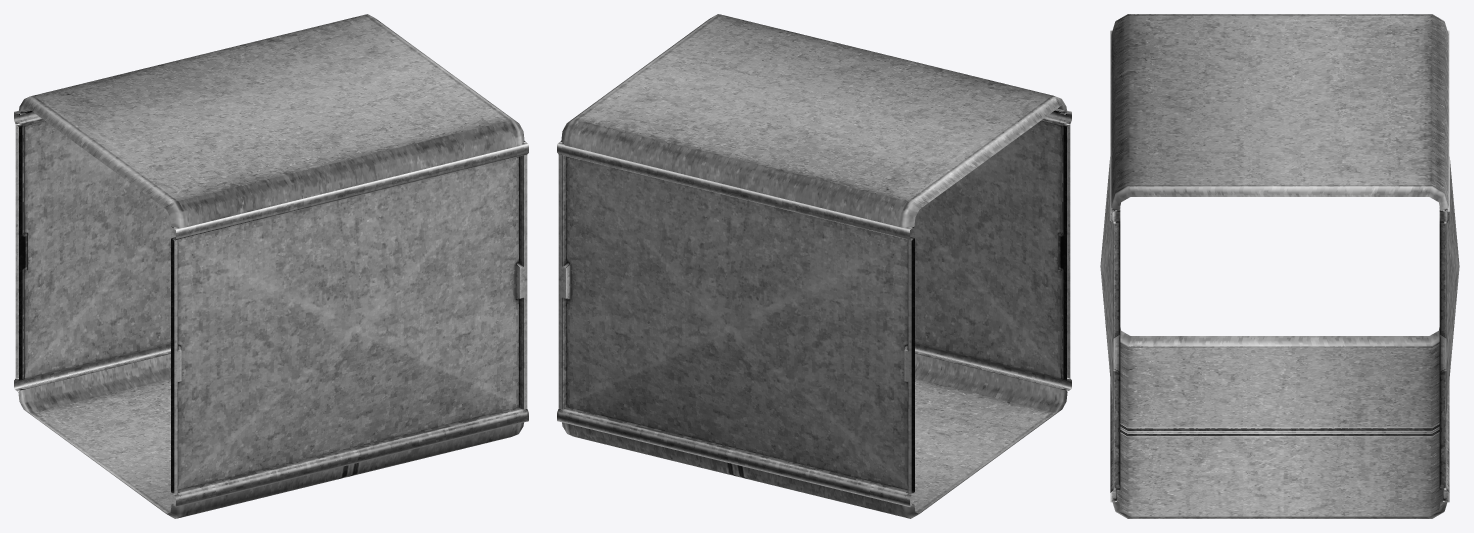
File: vent_shaft_exterior_straight.dae
3 views of the same model, side by side, from view 1: azimuth 30°, elevation 25°; view 2: azimuth 150°, elevation 25°; view 3: azimuth 270°, elevation 25° (orthographic). The views are drawn at different scales.
Visible parts, largest first — view 1: straight__2_; view 2: straight__2_; view 3: straight__2_.
Boxes of the visible parts, bbox=[...] form: straight__2_: bbox=[14, 14, 528, 518]; straight__2_: bbox=[557, 14, 1071, 518]; straight__2_: bbox=[1100, 14, 1459, 518].
Bounding box in the file's own units: 2 × 1.71 × 1.68.
